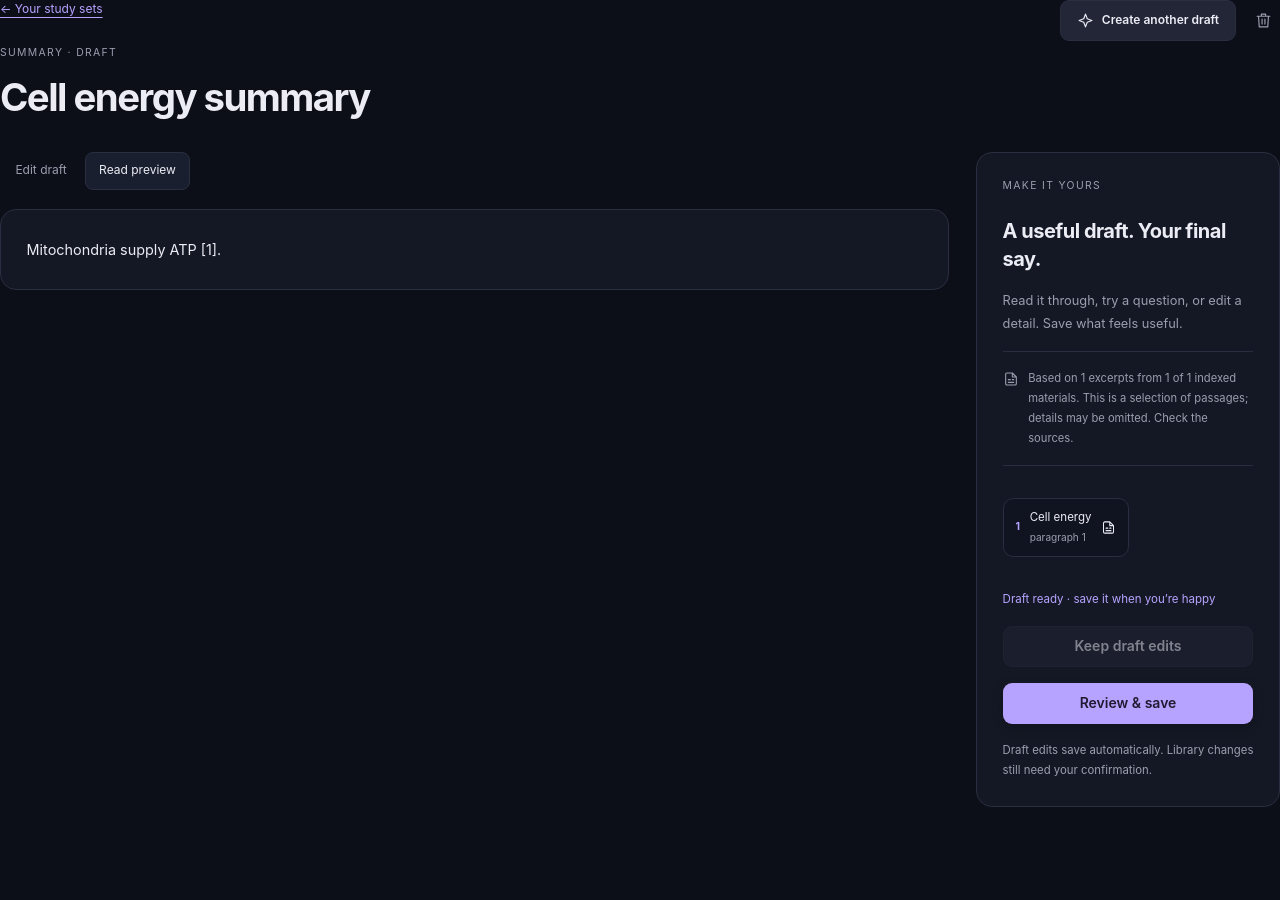
Test: Complete study tools interface › surfaces stale confirmation errors and keeps the review open for user control
Expected: the button "Read preview" is shown, [85,152,190,190]
Click the button "Review & save". click: (1128, 703)
box: [1003,683,1253,724]
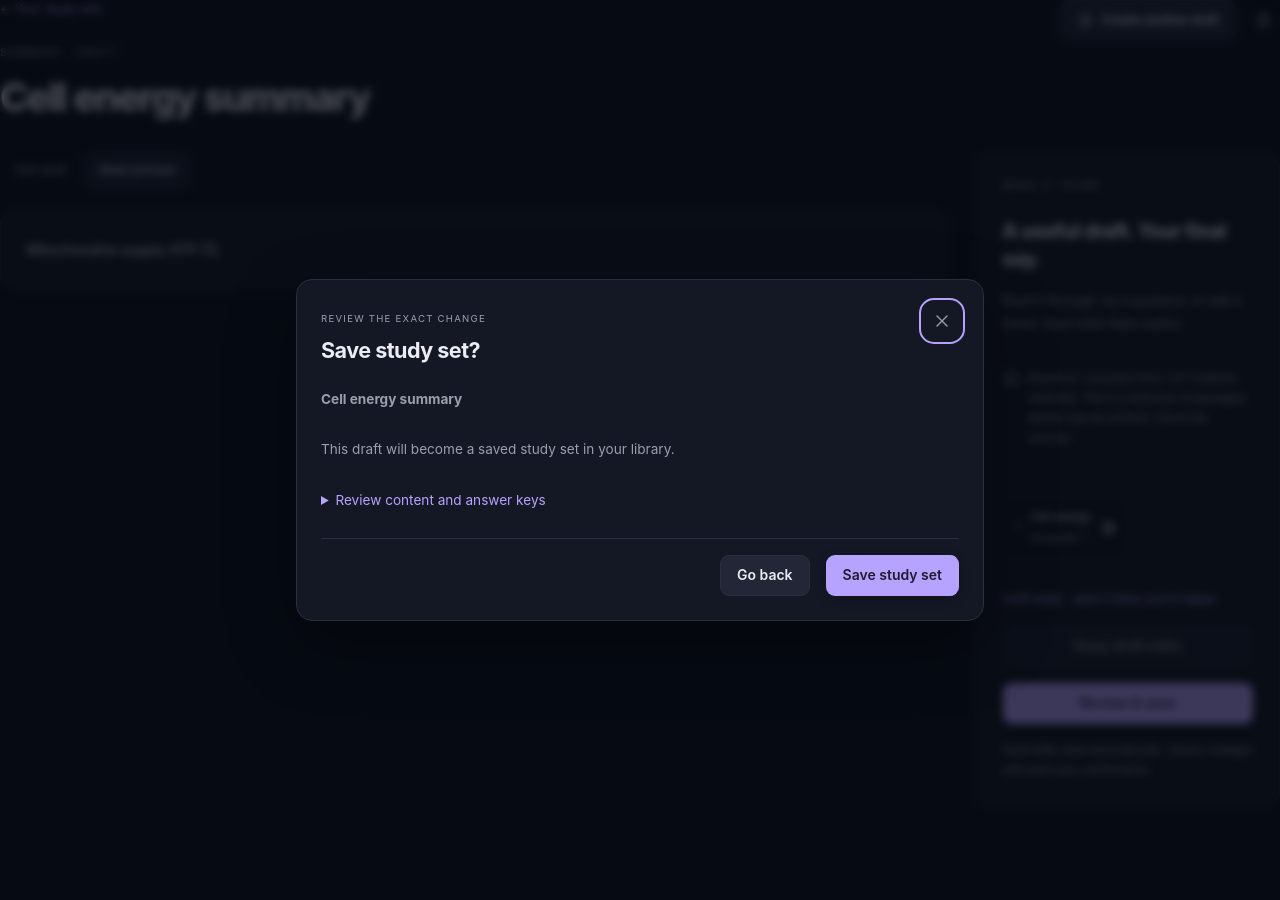
Click the button "Save study set". click: (892, 576)
box: [826,555,959,596]
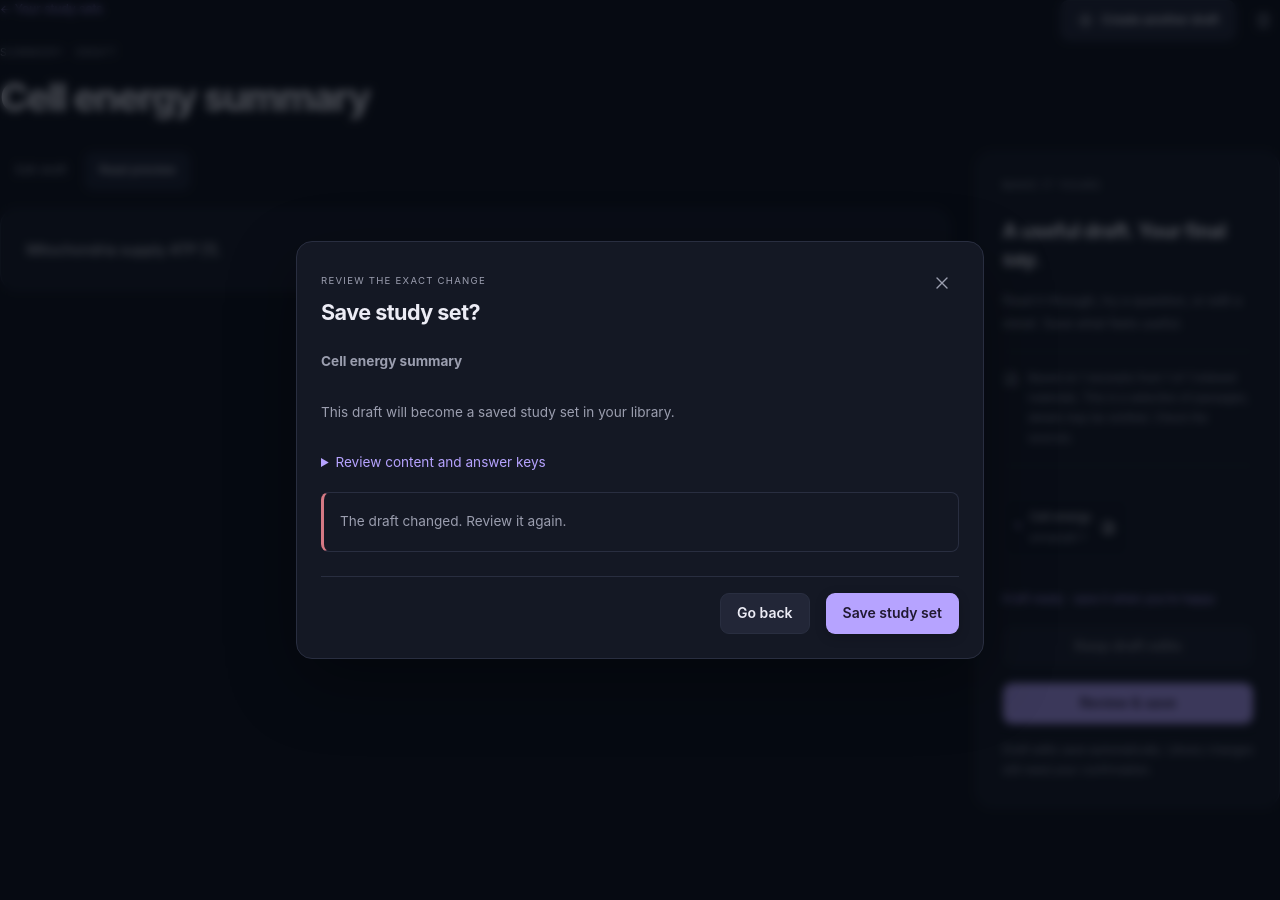
Now the message shows "draft changed", box [340,513,566,529]
